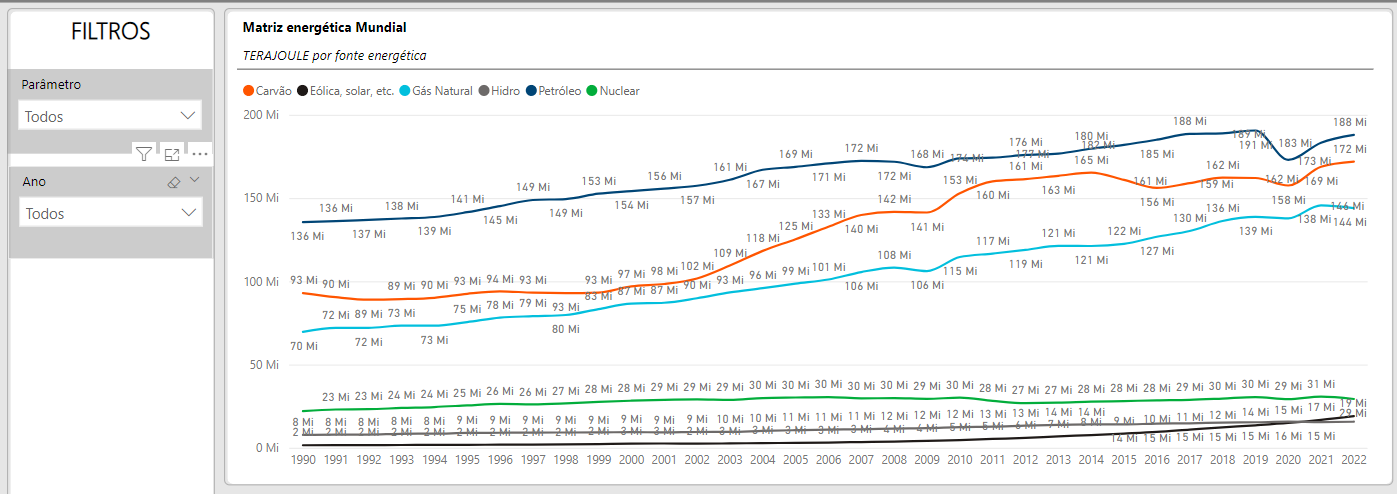

Layout of this report page (visuals, bound fields, positions):
{"tool":"powerbi","page":{"name":"Insight 4","canvas":[1280,720],"ordinal":4},"visuals":[{"type":"shape","box":[208.7,91.1,1062.7,433.6],"z":0},{"type":"lineChart","title":"Matriz energética Mundial","fields":{"Y":["#Medidas.Carvão","#Medidas.Eólica, solar, etc.","#Medidas.Gás Natural","#Medidas.Hidro","#Medidas.Petróleo","#Medidas.Nuclear"],"Category":["Total energy supply (TES) by source - World.Ano"]},"box":[221.1,99.6,1033.3,419.4],"z":1000},{"type":"shape","box":[0,0,1279.7,86],"z":2000},{"type":"textbox","box":[0,0,691.3,86.9],"z":3000},{"type":"shape","box":[208.7,536.1,1062.7,174.6],"z":4000},{"type":"textbox","box":[221.1,543.7,1037.1,167],"z":5000},{"type":"shape","box":[11.4,91.1,188.8,619.6],"z":6000},{"type":"slicer","fields":{"Values":["Parâmetro.Parâmetro"]},"box":[11.4,146.1,186.9,76.9],"z":7000},{"type":"slicer","fields":{"Values":["Total energy supply (TES) by source - World.Ano"]},"box":[12.3,234.4,186.9,84.4],"z":8000},{"type":"textbox","box":[12.3,91.1,186.9,43.6],"z":9000},{"type":"pageNavigator","box":[618.7,18,652.8,50.3],"z":10000}]}

Visuals, with their boxes on the page's 1280x720 design canvas (x1, y1, x2, y2). These are canvas units, not pixel positions in the 1397x494 screenshot, which may show the page scaled, cropped or inside an application window:
shape: <region>209, 91, 1271, 525</region>
"Matriz energética Mundial" lineChart: <region>221, 100, 1254, 519</region>
shape: <region>0, 0, 1280, 86</region>
textbox: <region>0, 0, 691, 87</region>
shape: <region>209, 536, 1271, 711</region>
textbox: <region>221, 544, 1258, 711</region>
shape: <region>11, 91, 200, 711</region>
slicer - Parâmetro.Parâmetro: <region>11, 146, 198, 223</region>
slicer - Total energy supply (TES) by source - World.Ano: <region>12, 234, 199, 319</region>
textbox: <region>12, 91, 199, 135</region>
pageNavigator: <region>619, 18, 1272, 68</region>
